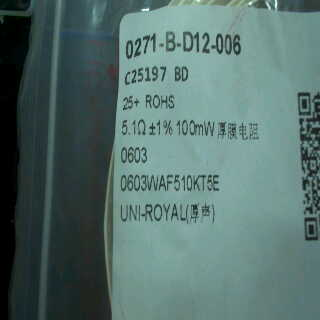5.1R: (118, 114, 148, 142)
